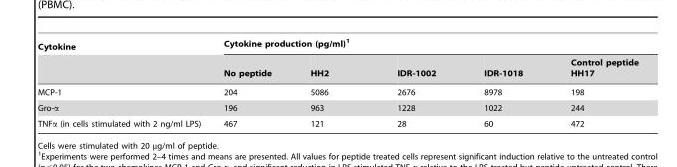table: (37, 37, 637, 127)
table column: (37, 37, 211, 127), (362, 37, 459, 127), (546, 37, 637, 127), (459, 37, 546, 127), (211, 37, 290, 127), (290, 37, 362, 127)
table column header: (37, 37, 637, 82)
table row: (37, 54, 637, 82), (37, 37, 637, 54), (37, 82, 637, 99), (37, 99, 637, 115), (37, 115, 637, 127)
table spanning cell: (37, 37, 211, 82), (211, 37, 637, 54)
